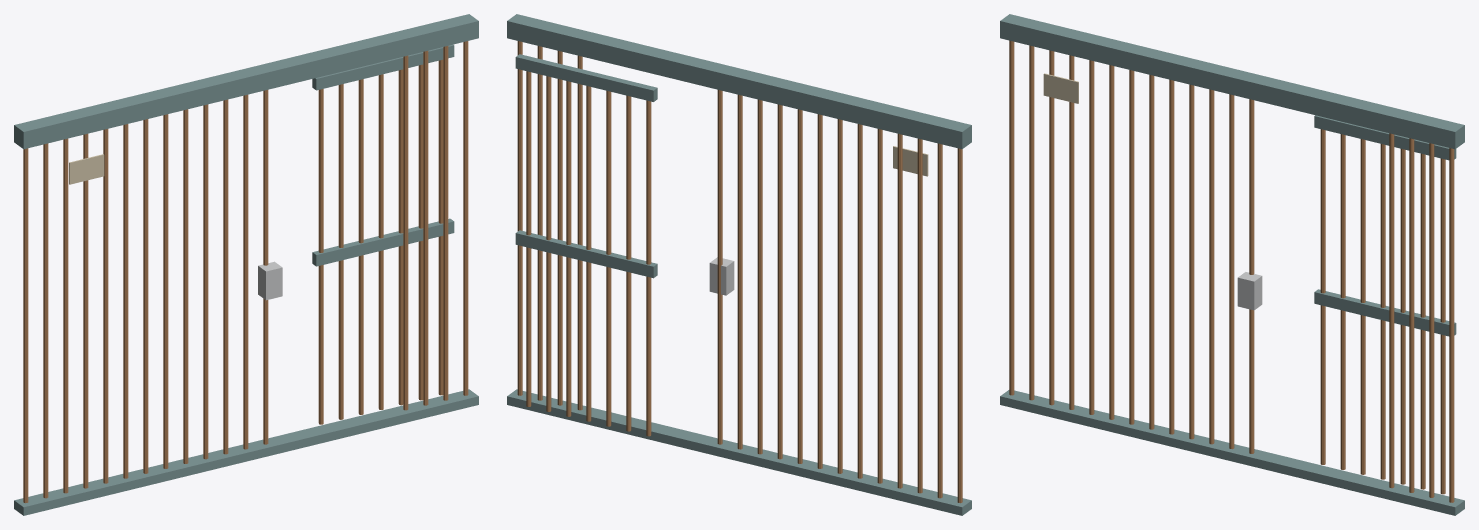
File: cell_bars.glb
The picture shows the model from 3 angles, left to right: view 1: azimuth 30°, elevation 25°; view 2: azimuth 150°, elevation 25°; view 3: azimuth 330°, elevation 25°; orthographic projection.
Visible parts, largest first — view 1: cell_bars; view 2: cell_bars; view 3: cell_bars.
Boxes of the visible parts, left/top/right/bottom form: cell_bars: left=14, top=14, right=478, bottom=515; cell_bars: left=507, top=14, right=971, bottom=515; cell_bars: left=1000, top=14, right=1464, bottom=515.
Size of what is drawn, in the model's own units: 3.3 by 2.66 by 0.215.
